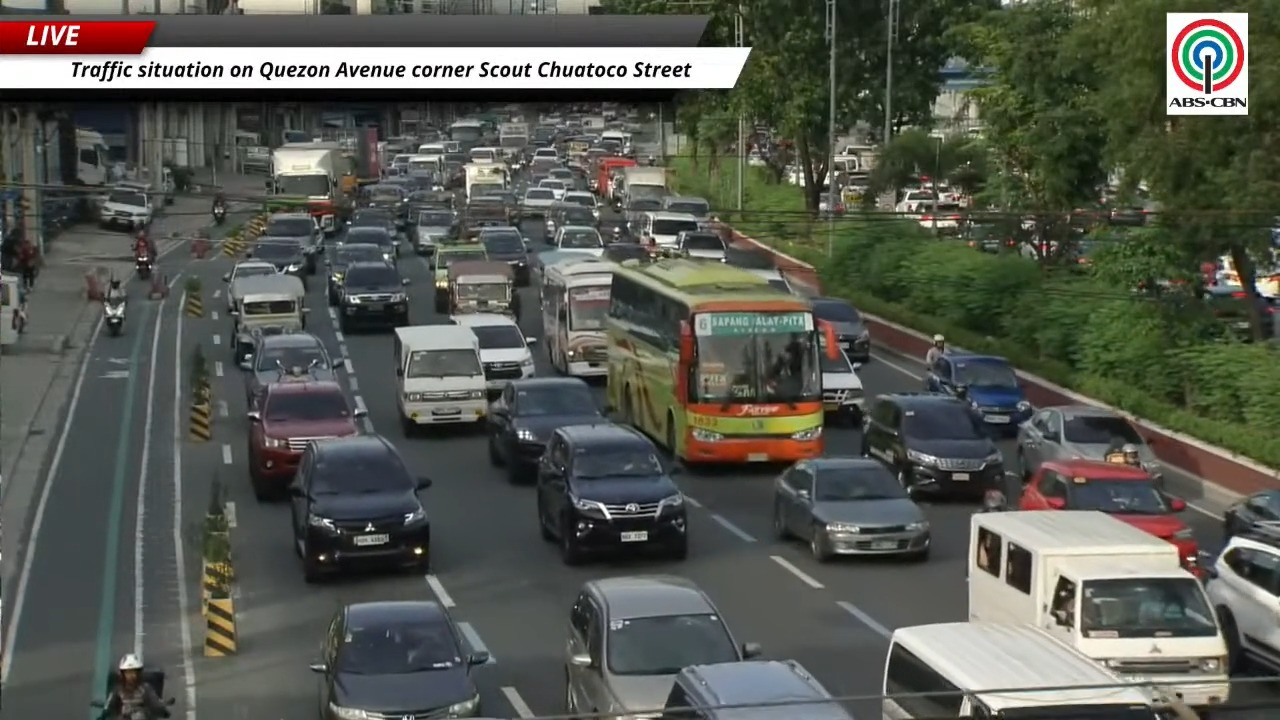bus: (606, 258, 823, 463), (883, 622, 1165, 719), (541, 256, 616, 376)
car: (565, 575, 760, 716), (310, 600, 489, 719), (536, 423, 687, 564), (289, 434, 430, 582), (1018, 459, 1199, 571), (773, 457, 930, 561), (862, 392, 1003, 498), (247, 380, 364, 499), (486, 377, 605, 482), (660, 659, 853, 719), (1017, 405, 1162, 481), (1206, 526, 1279, 673), (925, 351, 1033, 435), (449, 313, 534, 394), (245, 332, 335, 407), (337, 262, 408, 332), (819, 335, 864, 425), (429, 243, 487, 312), (810, 297, 870, 362), (262, 212, 323, 272), (326, 244, 385, 305), (248, 236, 309, 288), (479, 226, 530, 287), (223, 260, 277, 313), (1223, 490, 1279, 537), (632, 211, 702, 248), (99, 186, 154, 230), (339, 225, 398, 263), (360, 182, 408, 228), (462, 194, 512, 238), (412, 208, 458, 255), (544, 203, 597, 241), (550, 226, 604, 256), (676, 230, 726, 261), (622, 197, 661, 236), (743, 267, 799, 294), (916, 203, 963, 235), (347, 207, 397, 236), (519, 187, 556, 218), (662, 196, 710, 219), (560, 190, 597, 218), (601, 242, 651, 262), (895, 189, 934, 214), (538, 177, 569, 200), (548, 167, 577, 186)
motorcycle: (89, 668, 175, 719), (104, 299, 124, 336), (980, 489, 1008, 512), (135, 253, 153, 279), (212, 204, 226, 225)
truck: (967, 510, 1229, 707), (270, 143, 350, 236), (75, 128, 112, 186), (353, 126, 383, 185), (622, 166, 667, 204), (465, 163, 509, 199), (499, 122, 529, 161)
